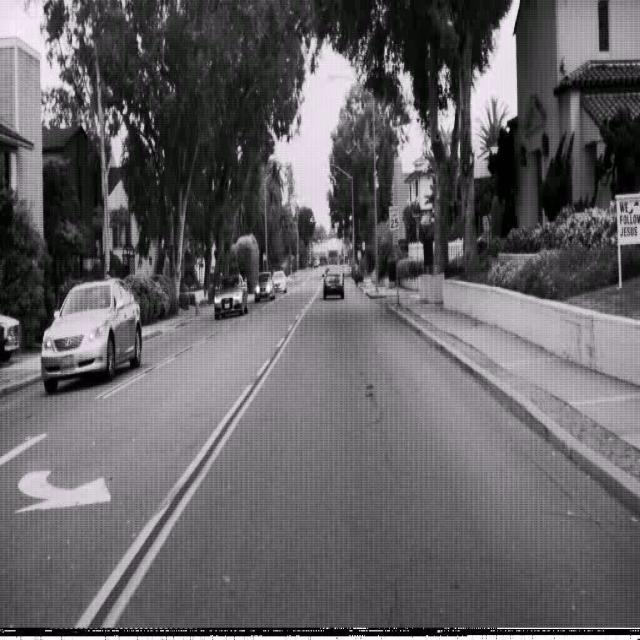speedLimit25: (388, 204, 400, 232)
